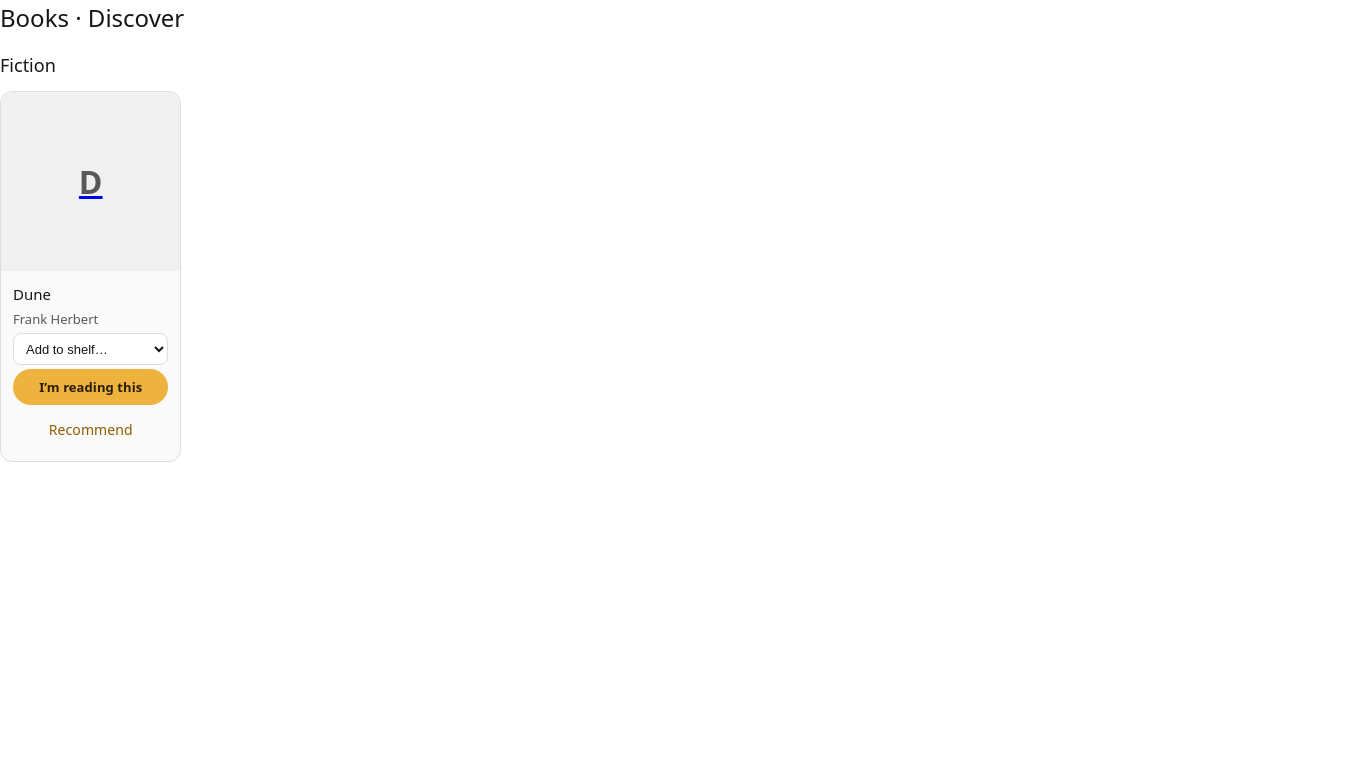
Test case: Discover → start activity › opens the compose overlay pre-filled from a Discover item
The width and height of the screenshot is (1366, 768).
Click the button "I’m reading this". click: x=91, y=387
box: [13,369,168,405]
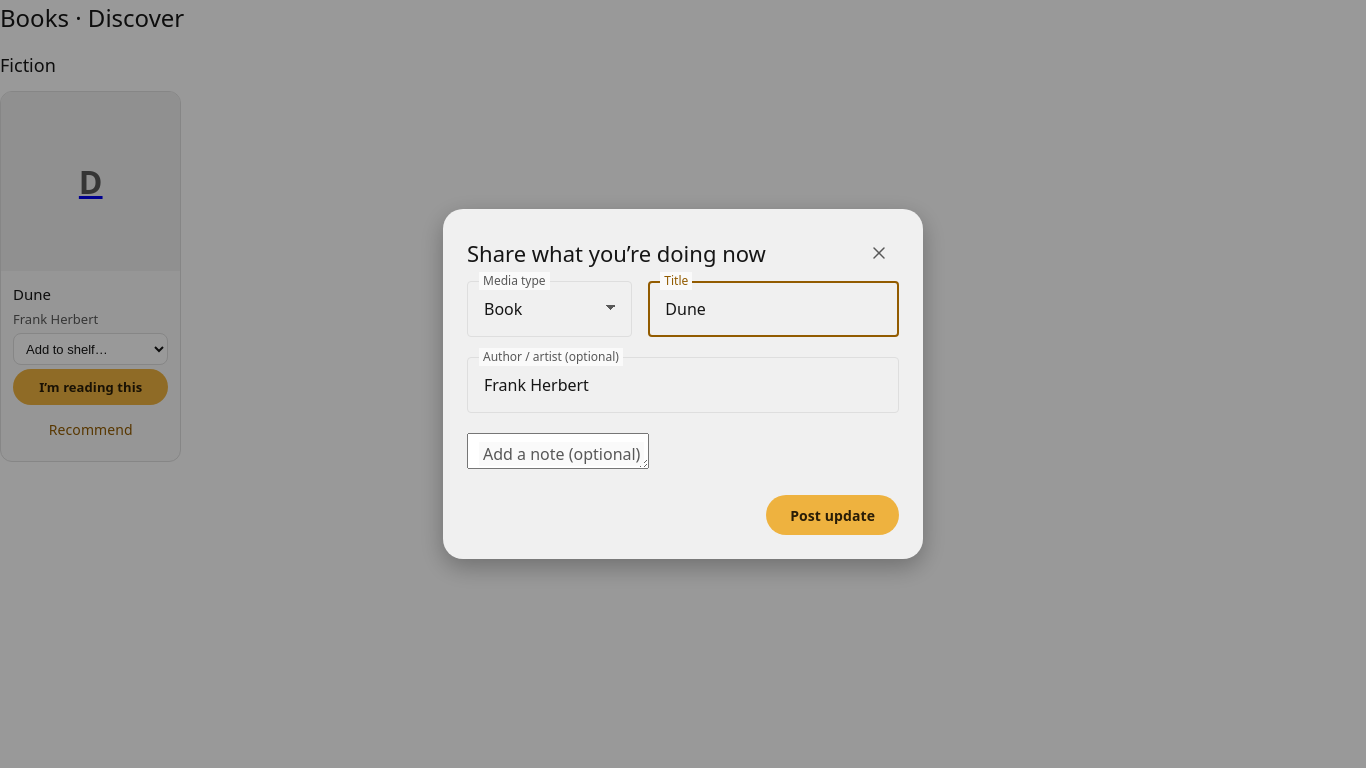
Result: the field named "Title" holds "Dune" at [648,281,899,337]
Result: the field named "Author or artist" holds "Frank Herbert" at [467,357,899,413]
